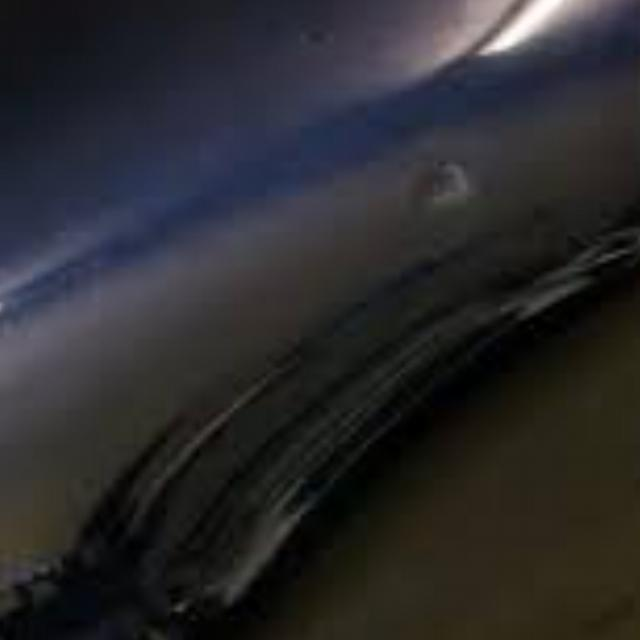dents: (404, 150, 508, 249)
